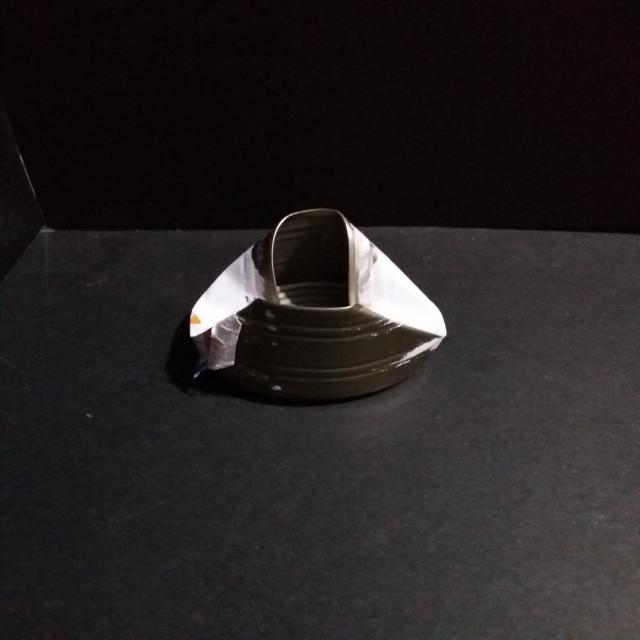metal-can: (182, 202, 450, 402)
